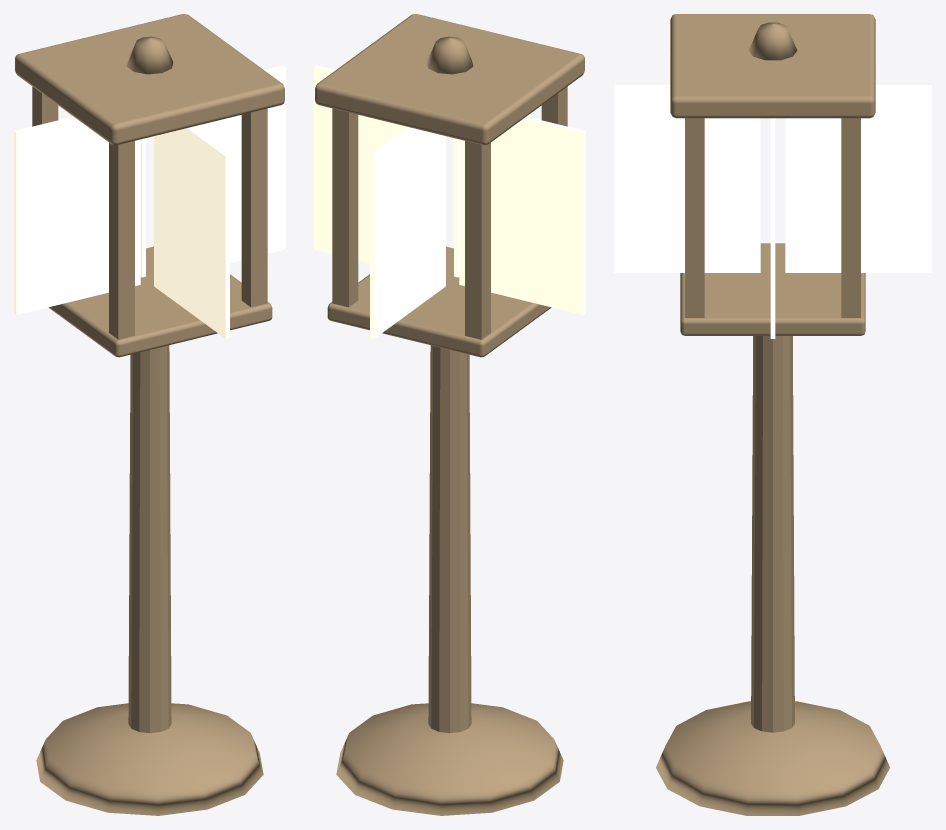
The model's file is korean-hanok-village-and-street-standing-paper-lamp-e8a82fcc__38070.glb.
3 views of the same model, side by side, from view 1: azimuth 30°, elevation 25°; view 2: azimuth 150°, elevation 25°; view 3: azimuth 270°, elevation 25° (orthographic).
Parts seen in each view (by area): view 1: standing-paper-lamp; view 2: standing-paper-lamp; view 3: standing-paper-lamp.
Boxes of the visible parts, <box> form: standing-paper-lamp: <box>14,14,285,815</box>; standing-paper-lamp: <box>314,14,585,815</box>; standing-paper-lamp: <box>614,14,931,815</box>.
Bounding box in the file's own units: 0.65 × 1.68 × 0.65.
